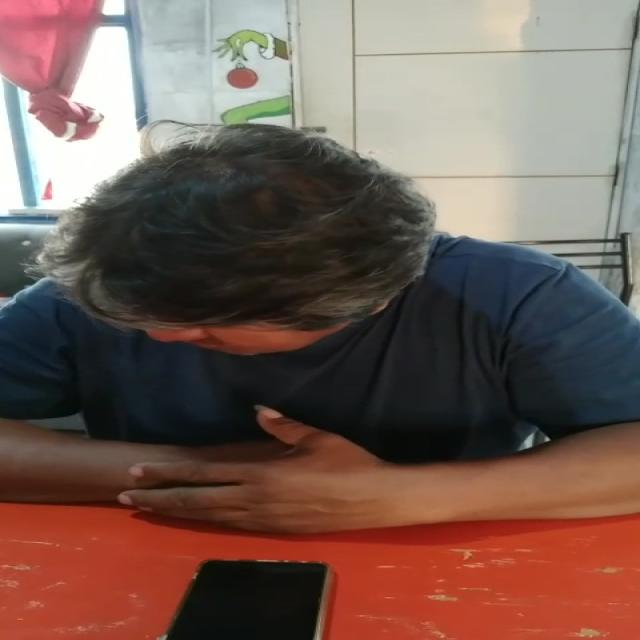9_cabeza_baja: (47, 126, 430, 357)
